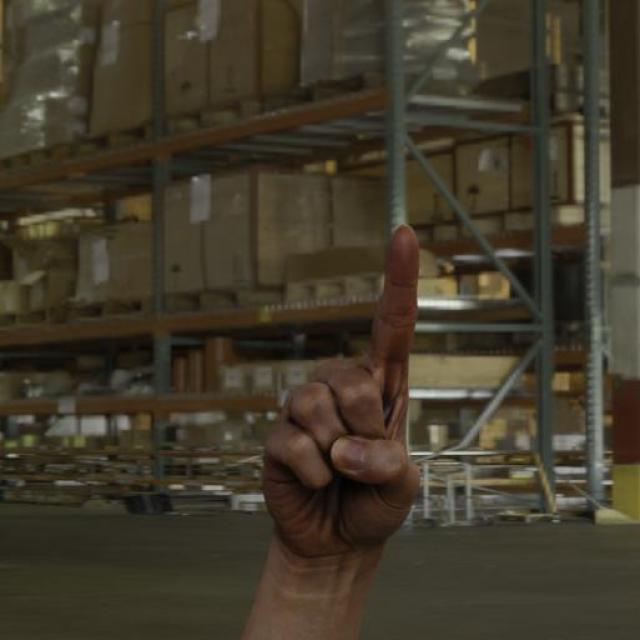Z: (260, 221, 431, 570)
